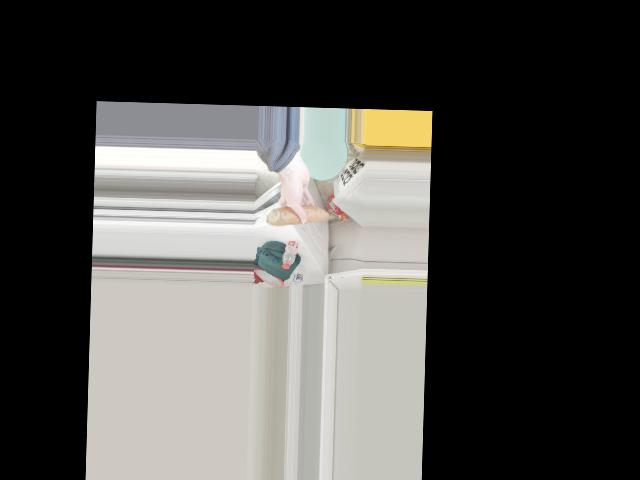sweet_potato: (275, 205, 328, 221)
